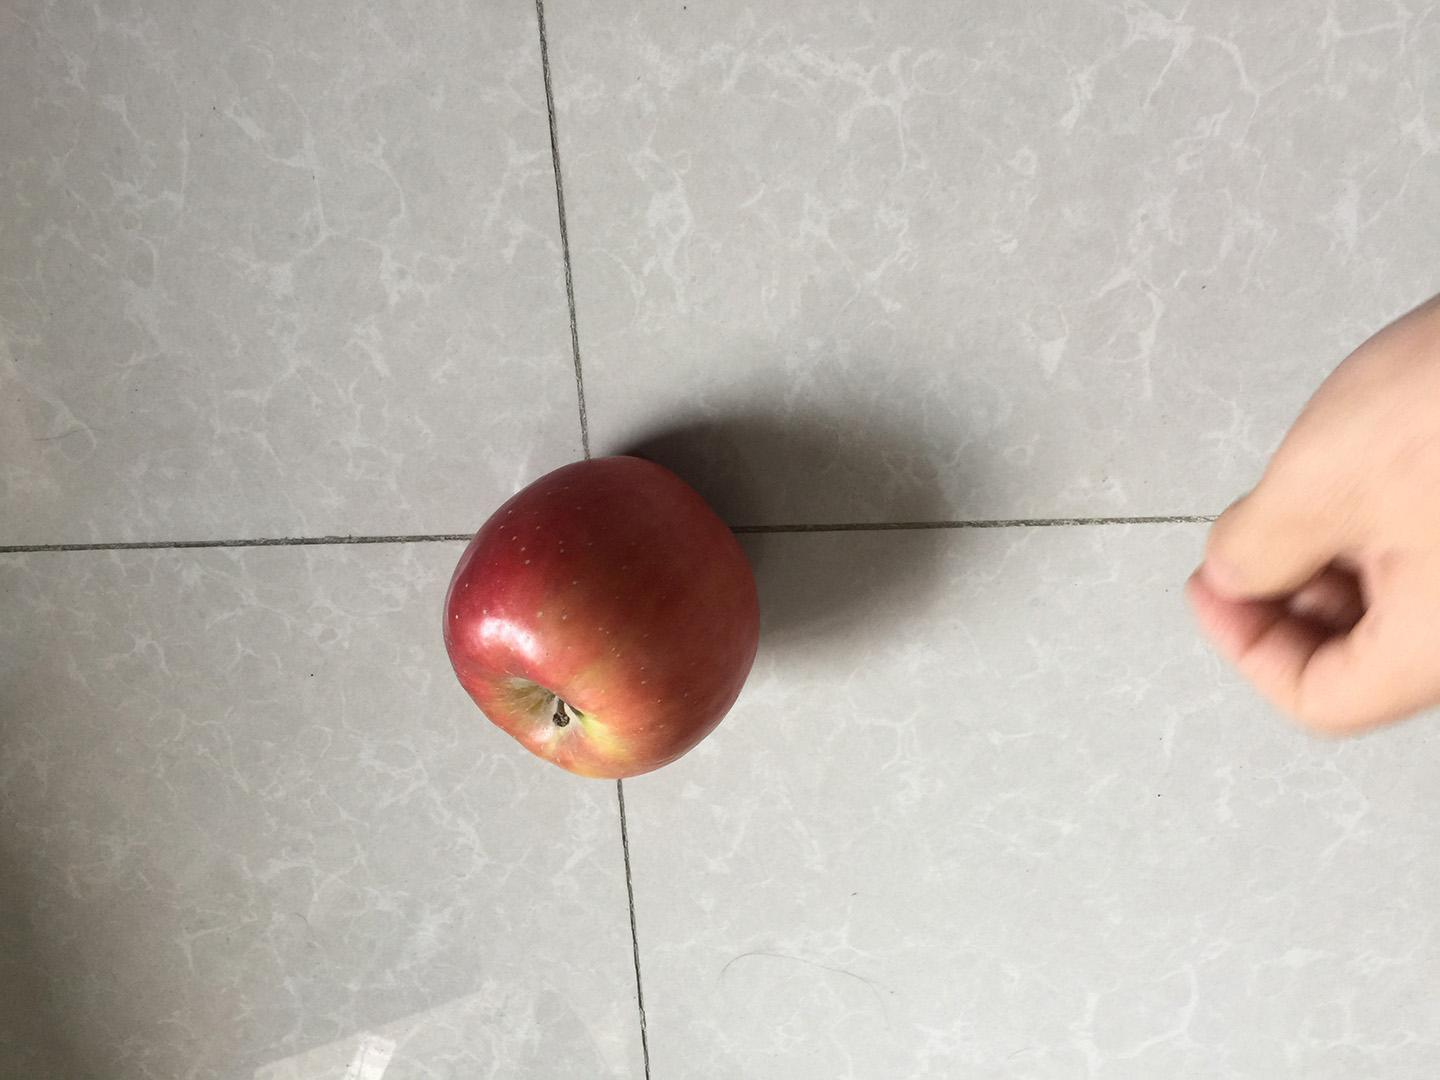apple: (438, 452, 768, 785)
